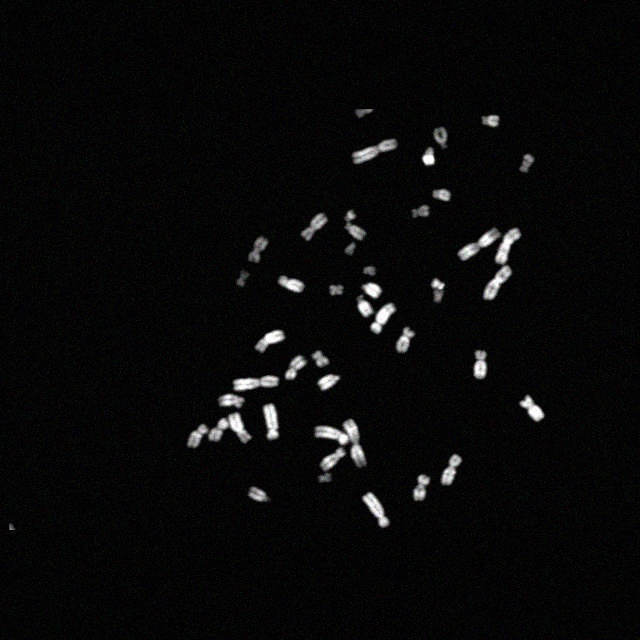chromosome: (458, 228, 502, 262), (344, 418, 368, 468), (353, 139, 397, 163), (494, 228, 522, 264), (483, 265, 512, 299), (362, 493, 390, 527), (301, 212, 327, 242), (370, 304, 396, 334), (228, 412, 252, 443), (520, 394, 544, 422), (255, 330, 285, 352), (233, 376, 279, 390), (314, 427, 348, 445), (441, 454, 461, 484), (263, 403, 279, 439), (285, 354, 307, 380), (320, 448, 346, 470), (248, 237, 267, 263), (188, 425, 208, 449), (397, 327, 415, 353), (414, 474, 431, 501), (279, 276, 305, 292), (344, 222, 366, 240), (210, 418, 228, 440), (318, 374, 340, 391), (357, 296, 373, 318), (248, 487, 270, 503), (220, 394, 245, 408), (474, 351, 486, 379), (362, 282, 382, 298), (312, 351, 330, 367), (434, 128, 448, 148), (520, 154, 534, 172), (412, 205, 430, 218), (432, 189, 450, 201), (422, 148, 434, 164), (237, 270, 249, 286), (483, 115, 499, 126), (331, 284, 344, 296), (344, 210, 356, 222), (344, 243, 356, 255), (432, 278, 444, 290), (364, 266, 376, 276), (433, 291, 443, 303), (320, 473, 332, 483)
